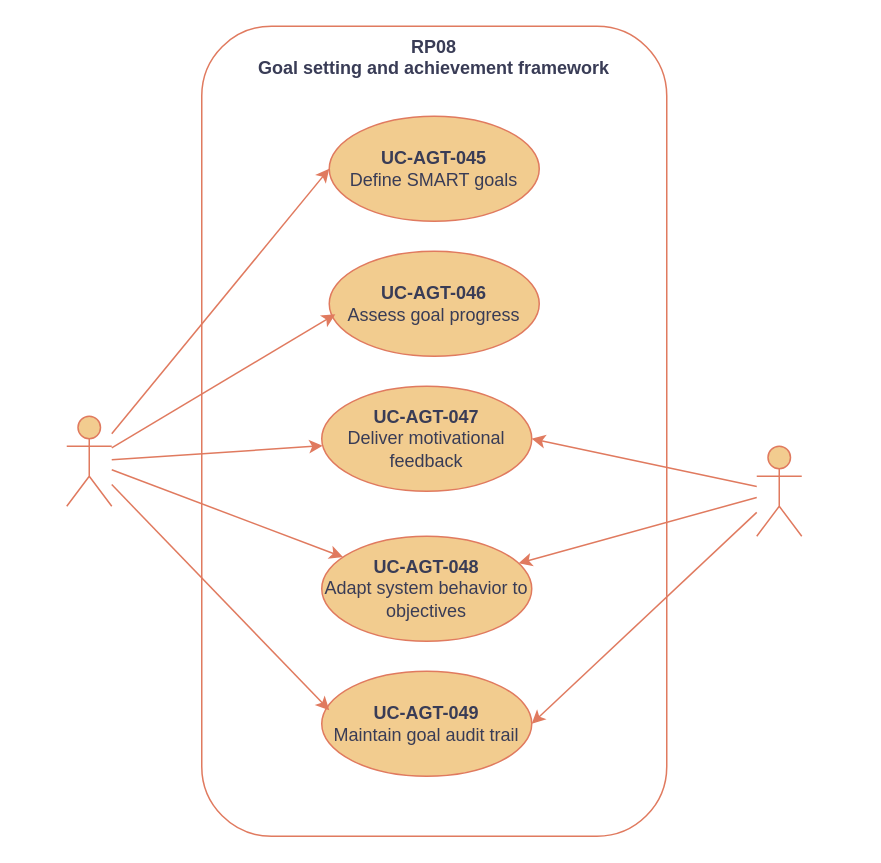
The diagram is 881 pixels wide and 863 high, and some of its shapes have lost their labels. The shapes that lost their labels are listed below. From the top down, each one's box as (x1, y1, x2, y2) in pixels, then its label:
(65, 415, 112, 506): Registered user
(755, 445, 802, 536): Agentic subsystem
